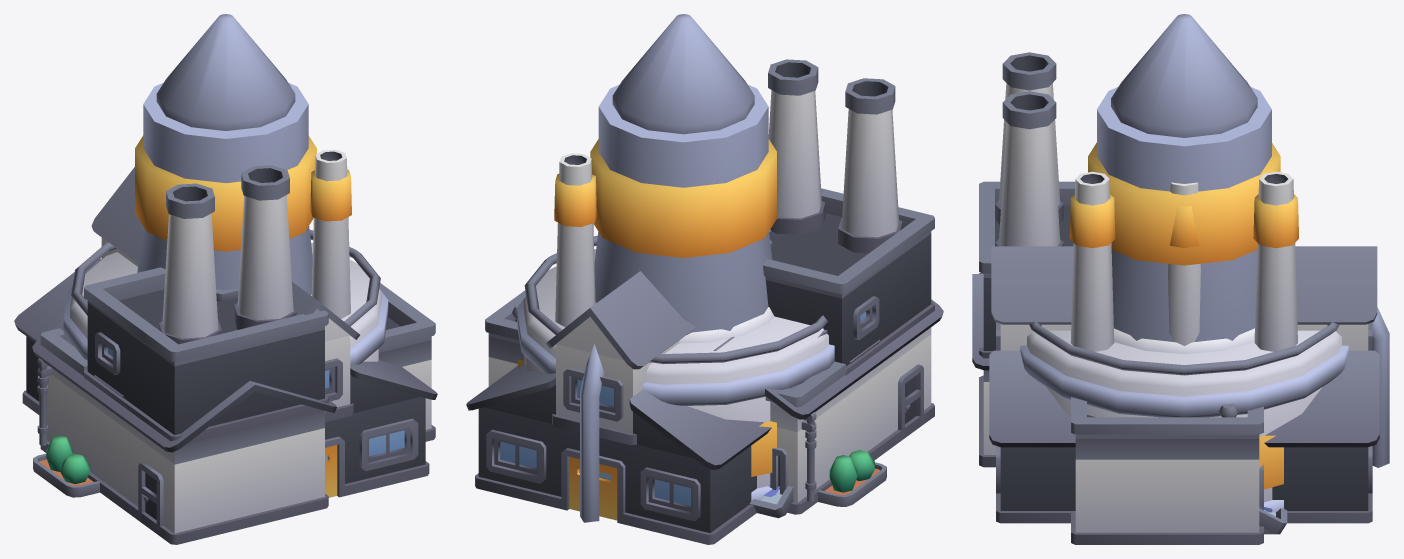
The model's file is lp-ind.glb.
3 views of the same model, side by side, from view 1: azimuth 30°, elevation 25°; view 2: azimuth 150°, elevation 25°; view 3: azimuth 270°, elevation 25° (orthographic). The views are drawn at different scales.
Parts seen in each view (by area): view 1: building-e, building-m, chimney-large, building-i, water-tower, detail-tank-large; view 2: building-m, building-e, chimney-large, detail-tank-large, building-i, water-tower, solar-panel-landscape-group; view 3: building-m, building-e, chimney-large, detail-tank-large, water-tower, building-i, solar-panel-landscape-group.
Boxes of the visible parts, bbox=[...] form: building-e: bbox=[37, 165, 435, 544]; building-m: bbox=[14, 149, 437, 497]; chimney-large: bbox=[135, 83, 316, 295]; building-i: bbox=[32, 320, 336, 544]; water-tower: bbox=[156, 14, 295, 130]; detail-tank-large: bbox=[63, 230, 388, 364]; building-m: bbox=[466, 153, 771, 544]; building-e: bbox=[485, 59, 934, 514]; chimney-large: bbox=[590, 84, 776, 334]; detail-tank-large: bbox=[517, 235, 834, 522]; building-i: bbox=[714, 299, 943, 514]; water-tower: bbox=[612, 14, 754, 134]; solar-panel-landscape-group: bbox=[749, 485, 793, 518]; building-m: bbox=[989, 171, 1379, 523]; building-e: bbox=[979, 52, 1263, 544]; chimney-large: bbox=[1088, 87, 1280, 341]; detail-tank-large: bbox=[1020, 307, 1389, 512]; water-tower: bbox=[1111, 14, 1257, 137]; building-i: bbox=[972, 274, 989, 370]; solar-panel-landscape-group: bbox=[1259, 507, 1287, 534].
Size of the model in its own units: 1.79 by 2.14 by 1.82.
Materials: 1 (1 with a texture image).
